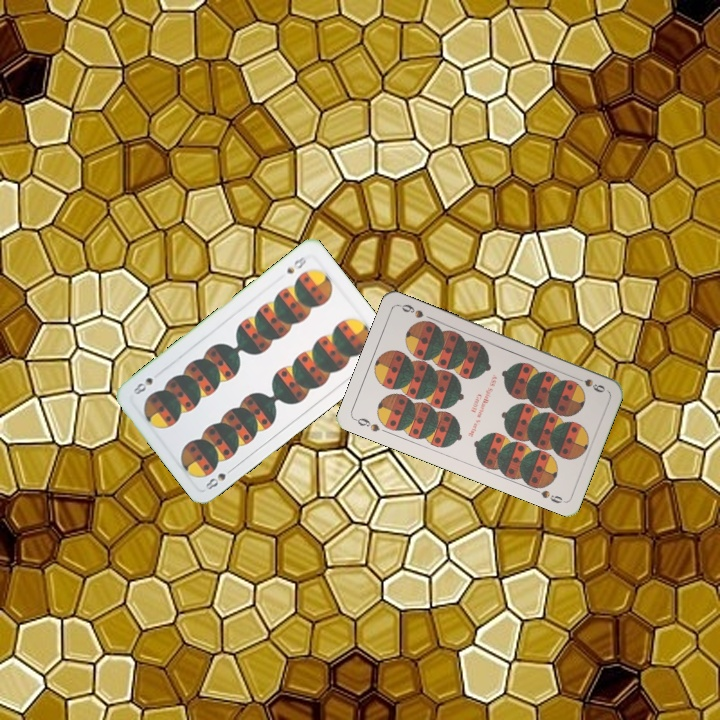S8: (201, 463, 237, 492), (282, 252, 309, 276)
S9: (570, 372, 608, 395), (351, 414, 382, 434)
